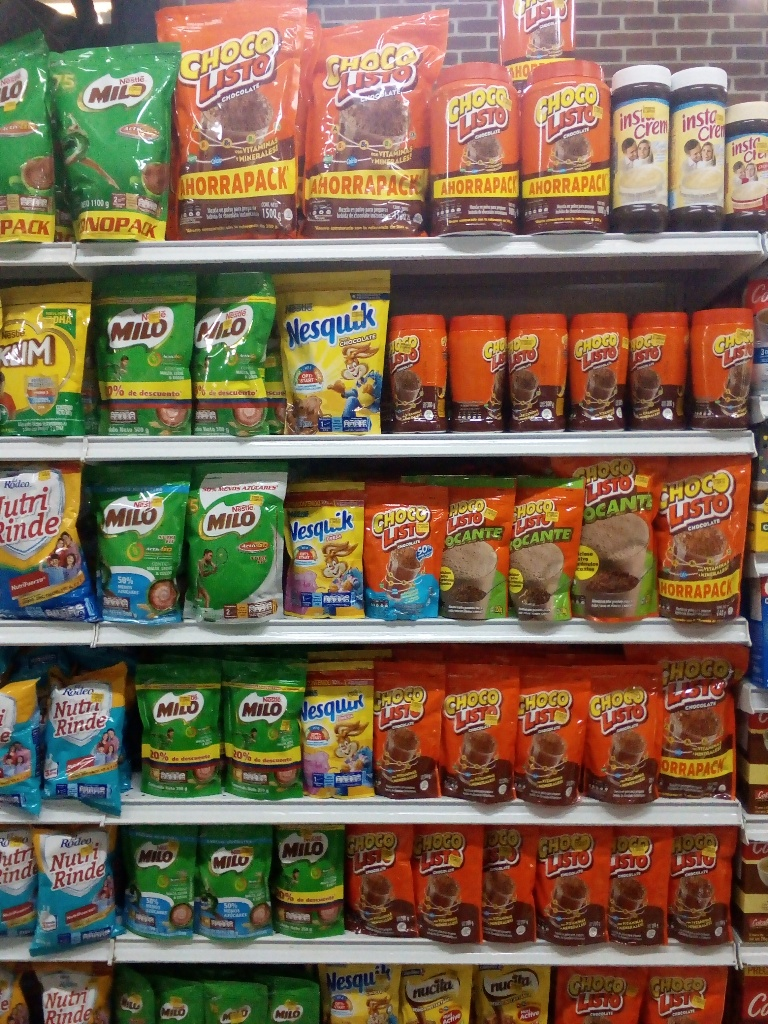COL0170102DYP25000: (509, 477, 584, 621)
COL0170102DYP50000: (552, 454, 667, 626)
COL0170103DYP1,500: (311, 11, 446, 241)
COL0170103DYP20000: (669, 824, 734, 947)
COL0170103DYP44000: (631, 645, 750, 803)
COL0170103TRR00100: (517, 55, 612, 235)
COL0170103TRR30000: (686, 305, 763, 433)
COL0170104DYP20000: (362, 476, 449, 621)
COL0170203DYP25000: (265, 821, 351, 939)
COL0170203DYP50000: (188, 264, 289, 440)
COL0170205DYP20000: (192, 821, 282, 944)
COL0170205DYP50000: (86, 458, 189, 634)
